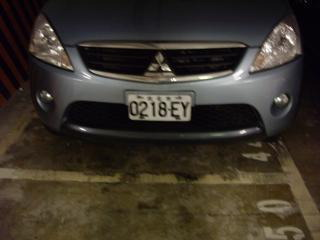plate: (124, 92, 192, 124)
